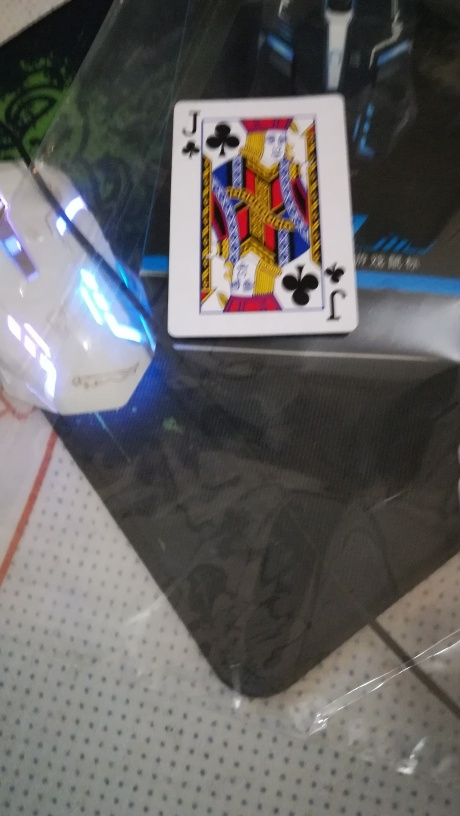mh j: (169, 93, 359, 336)
